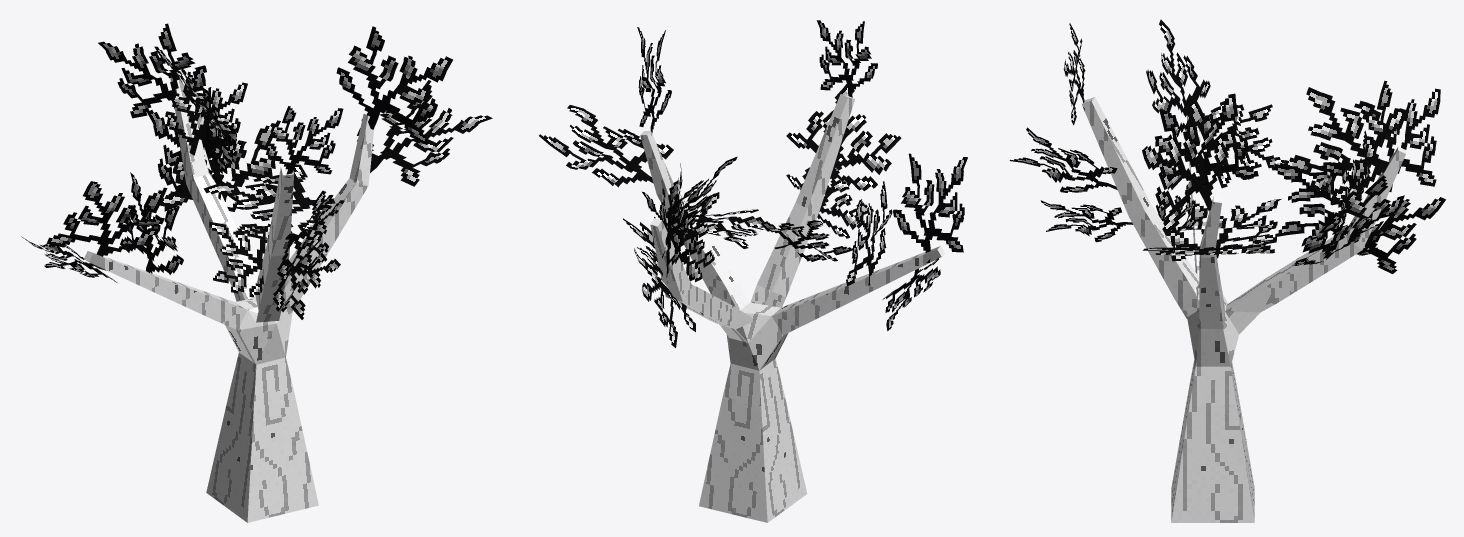
File: arbre_brot.glb
3 views of the same model, side by side, from view 1: azimuth 30°, elevation 25°; view 2: azimuth 150°, elevation 25°; view 3: azimuth 270°, elevation 25° (orthographic). The views are drawn at different scales.
Visible parts, largest first — view 1: Fulles (×16), Tronc; view 2: Tronc, Fulles (×16); view 3: Fulles (×16), Tronc.
Boxes of the visible parts, x1,y1,x2,y2 form: Fulles (×16): (21,23,492,319); Tronc: (84,72,374,522); Tronc: (640,94,944,522); Fulles (×16): (539,20,967,347); Fulles (×16): (1009,19,1445,273); Tronc: (1082,97,1406,522).
Bounding box in the file's own units: 0.5322 × 0.5313 × 0.4624.
Materials: 2 (2 with a texture image).
